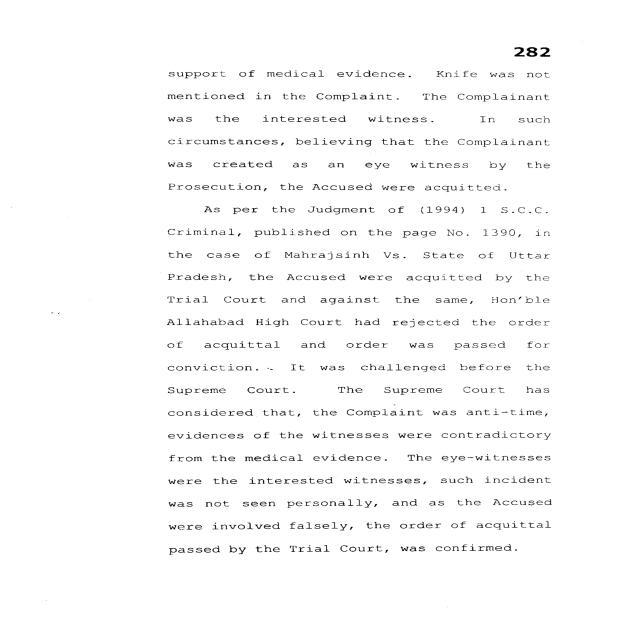page-number: (430, 0, 630, 62)
